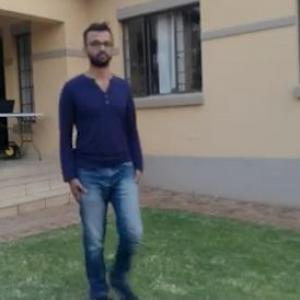follow: (67, 42, 141, 274)
